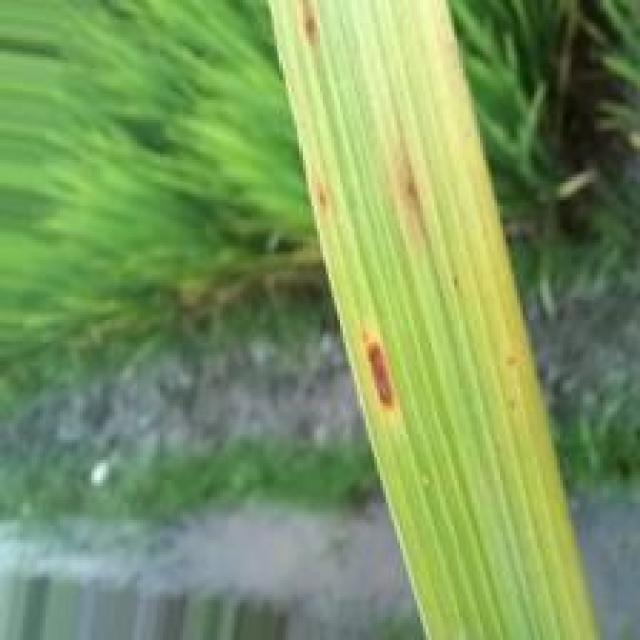Brown_Spot: (353, 331, 399, 416), (392, 150, 424, 245), (293, 0, 322, 42), (309, 183, 336, 216)
